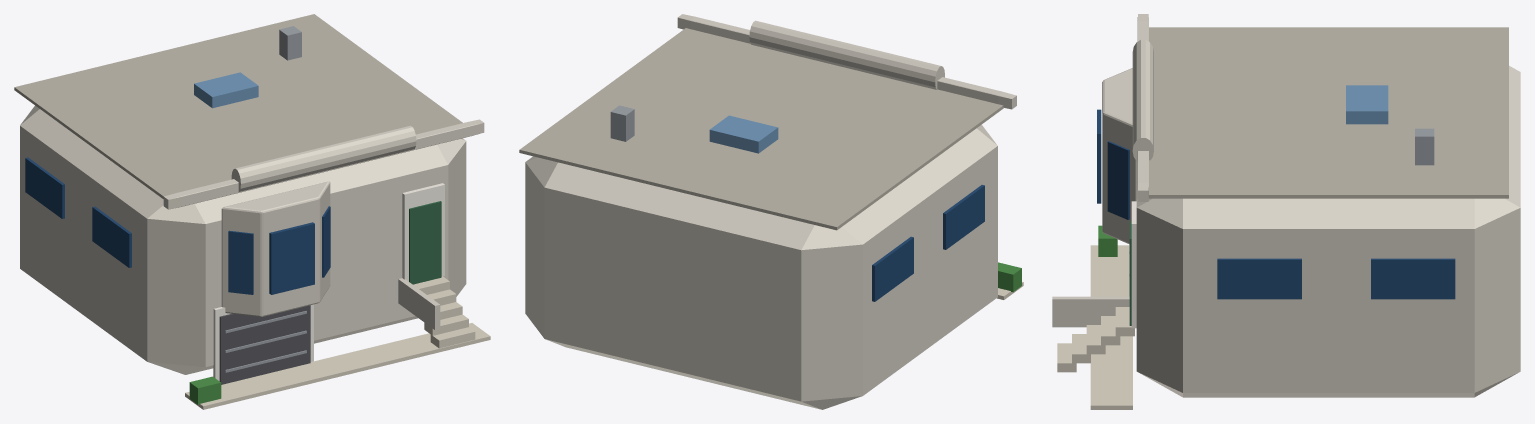
Rendered from sunset_w11_curved_bay.glb.
The picture shows the model from 3 angles, left to right: view 1: azimuth 30°, elevation 25°; view 2: azimuth 150°, elevation 25°; view 3: azimuth 270°, elevation 25°; orthographic projection. The views are drawn at different scales.
Parts seen in each view (by area): view 1: walls, roofslab, bay, patio, gdoor, pcurve, bw, door, pp1, bwa, skylt, dfr (+9 smaller); view 2: walls, roofslab, pcurve, pp1, skylt, sb.002, sb, pipe, hedge; view 3: walls, roofslab, patio, bay, sb.001, sb.003, pcurve, srail, skylt, bwa.001, pp1, dfr (+8 smaller).
Part boxes in pixels (x1,y1,x2,y2): walls: (20, 105, 466, 374); roofslab: (14, 14, 462, 198); bay: (221, 181, 330, 316); patio: (185, 323, 490, 409); gdoor: (219, 305, 310, 384); pcurve: (231, 125, 416, 191); bw: (269, 222, 314, 294); door: (409, 201, 441, 284); pp1: (163, 119, 484, 209); bwa: (228, 230, 253, 294); skylt: (194, 72, 258, 108); dfr: (402, 183, 444, 281); walls: (525, 124, 997, 409); roofslab: (519, 28, 1003, 230); pcurve: (749, 20, 944, 89); pp1: (677, 14, 1016, 109); skylt: (709, 115, 778, 153); sb.002: (872, 236, 913, 301); sb: (943, 185, 984, 249); pipe: (610, 105, 634, 141); hedge: (998, 262, 1021, 292); walls: (1136, 65, 1520, 397); roofslab: (1149, 27, 1508, 198); patio: (1090, 245, 1132, 409); bay: (1102, 68, 1136, 244); sb.001: (1217, 258, 1301, 299); sb.003: (1371, 258, 1455, 299); pcurve: (1132, 39, 1153, 161); srail: (1052, 296, 1129, 327); skylt: (1346, 85, 1388, 124); bwa.001: (1107, 141, 1129, 219); pp1: (1137, 14, 1148, 201); dfr: (1131, 201, 1136, 328).
Bounding box in the file's own units: 11.2 × 7.1 × 12.2.
